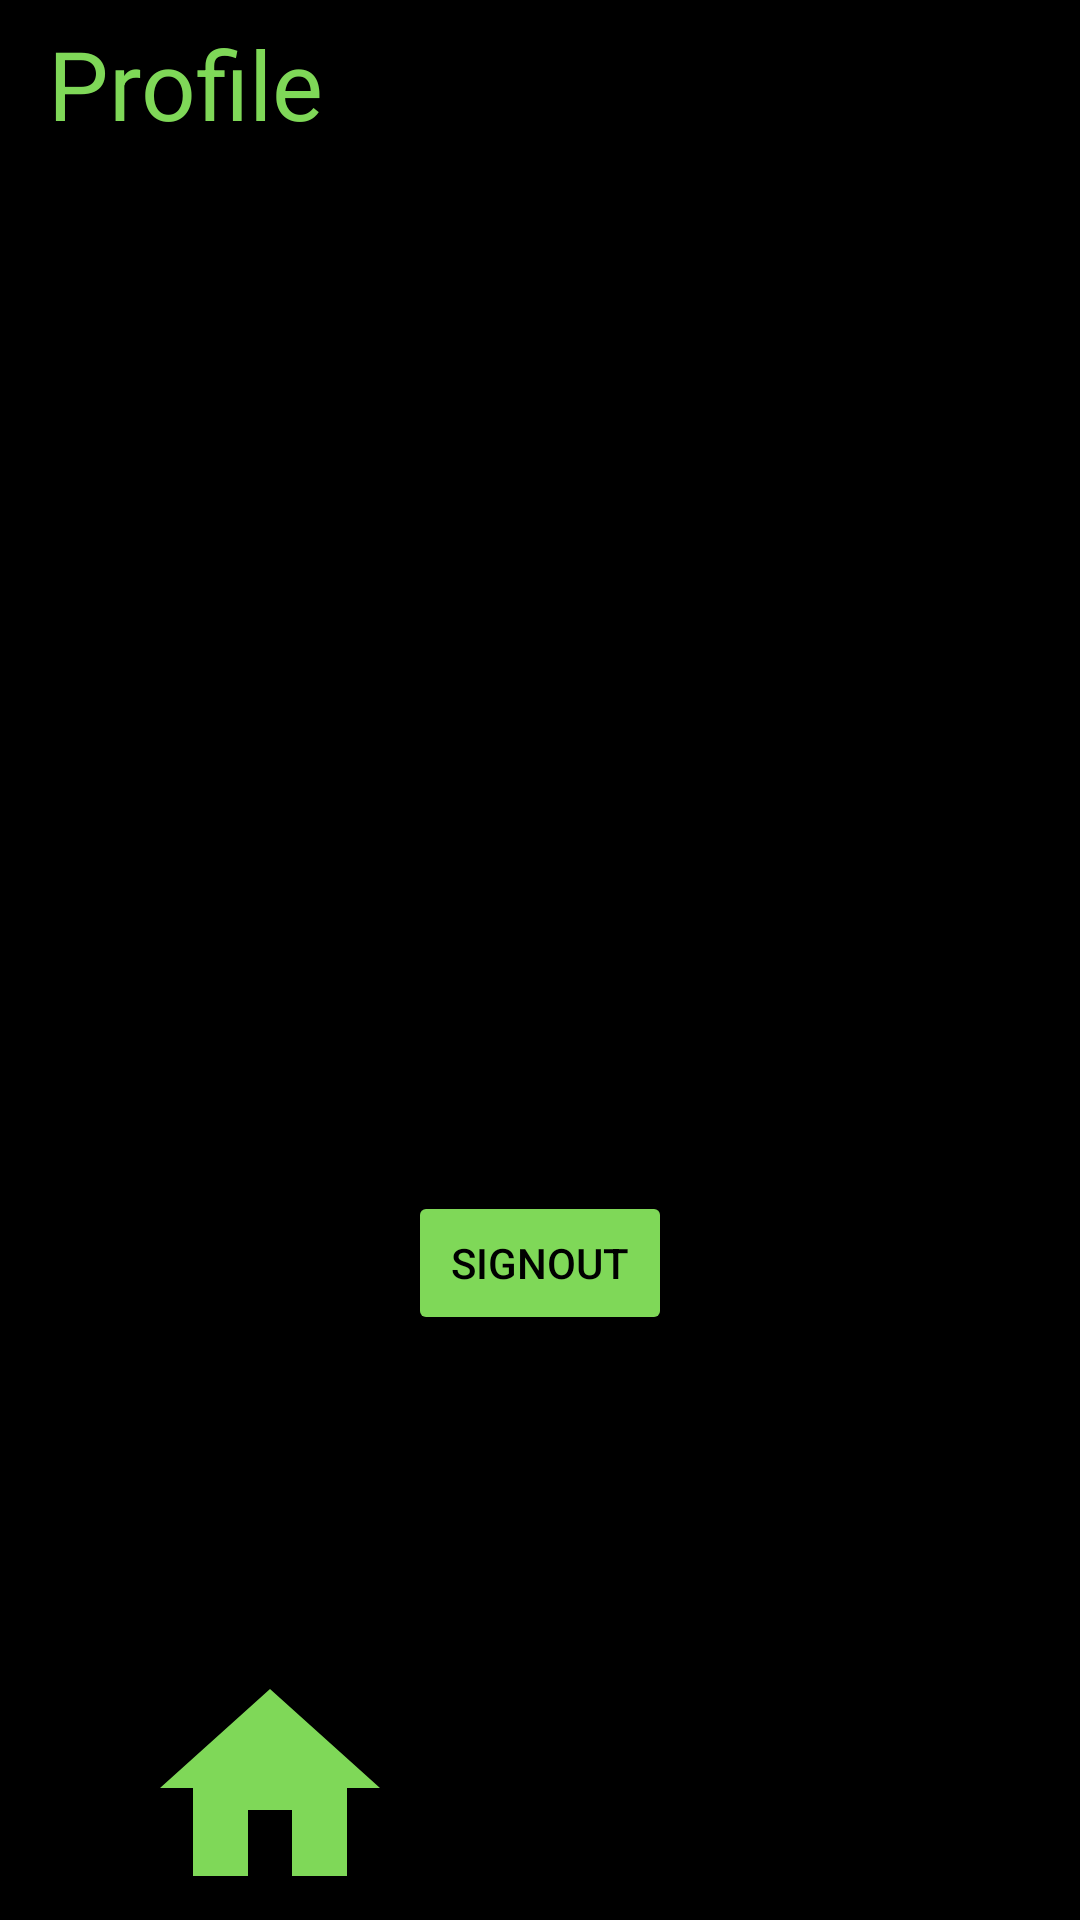

Icons on this 1080 × 1920 Android screen, each with its box as (x1, y1, x2, y2):
home: (160, 1689, 380, 1876)
